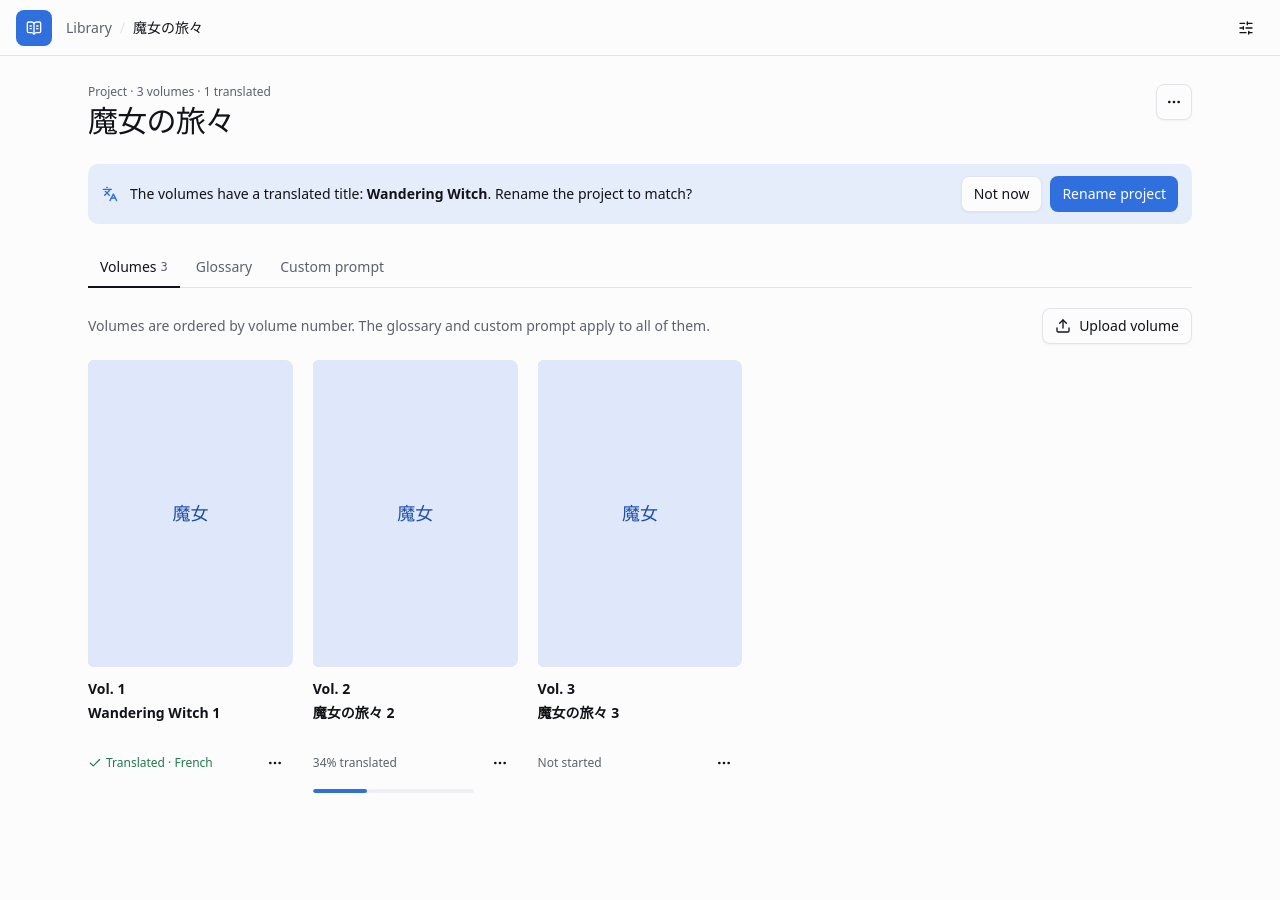
volume list › asks before deleting a volume
Click the button named "Vol. 3 actions" at (724, 763), box [706,745,742,781]
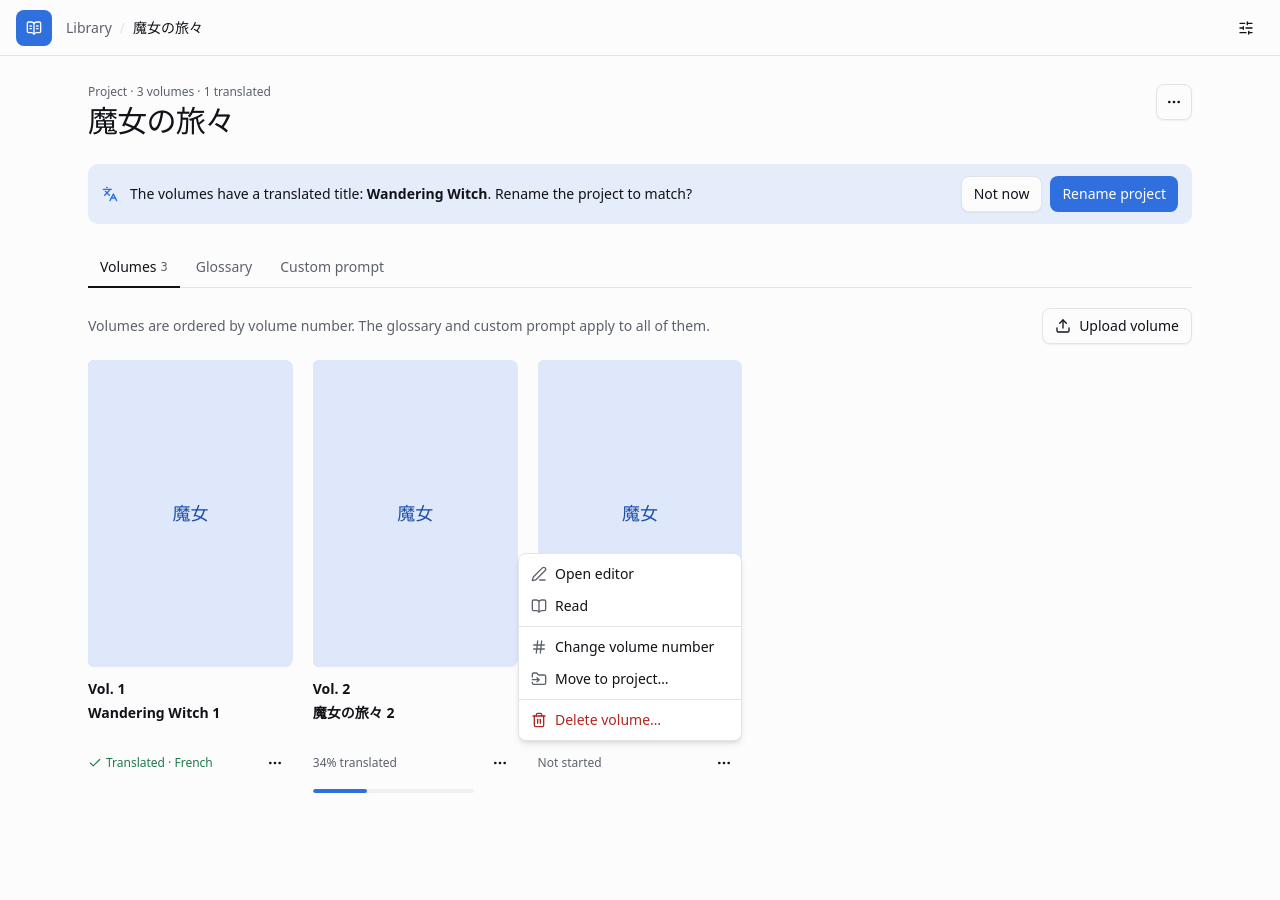
Click the menu item "Delete volume…" at (596, 720), box [531,710,661,729]
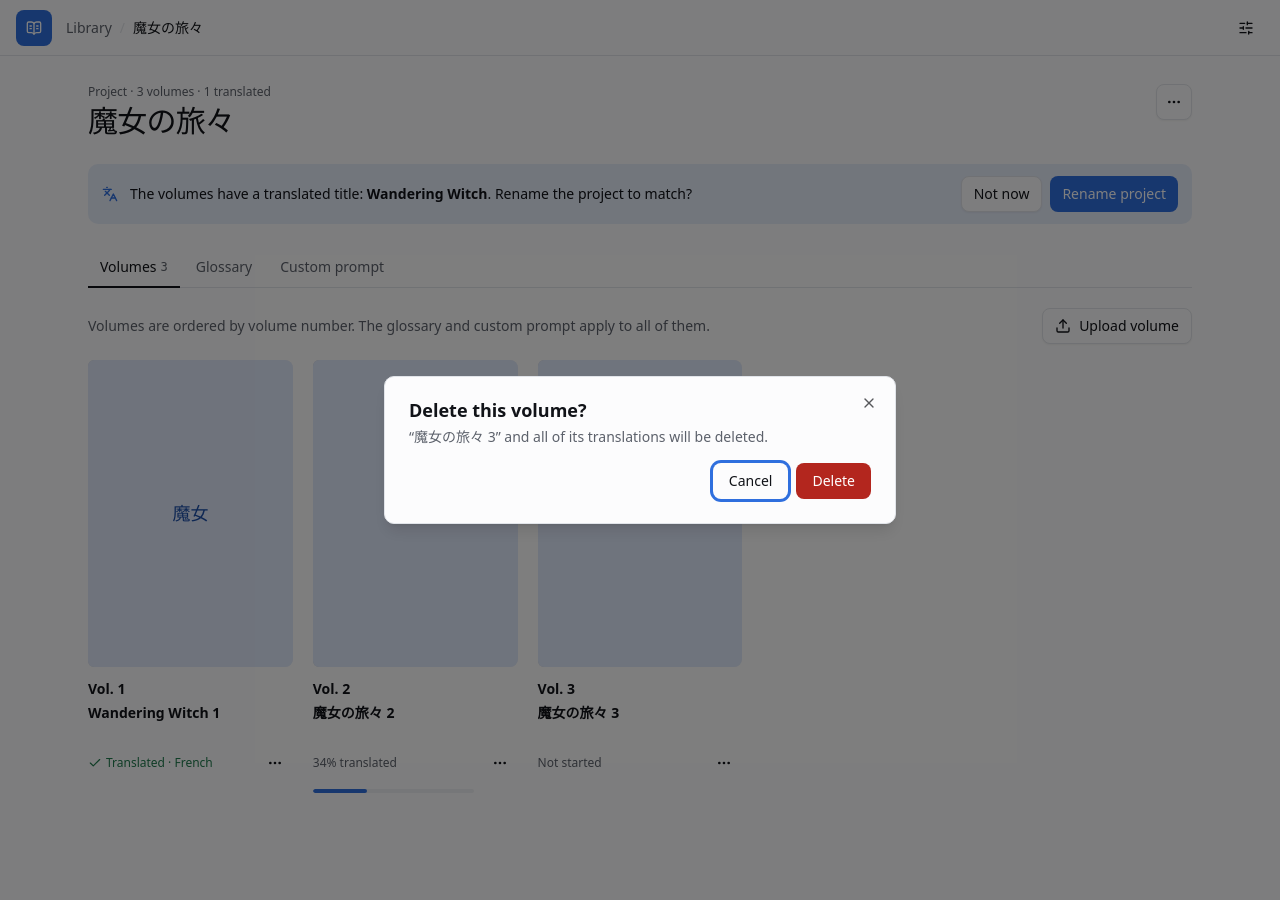
Click the button "Delete" at (834, 481), box [796,463,871,499]
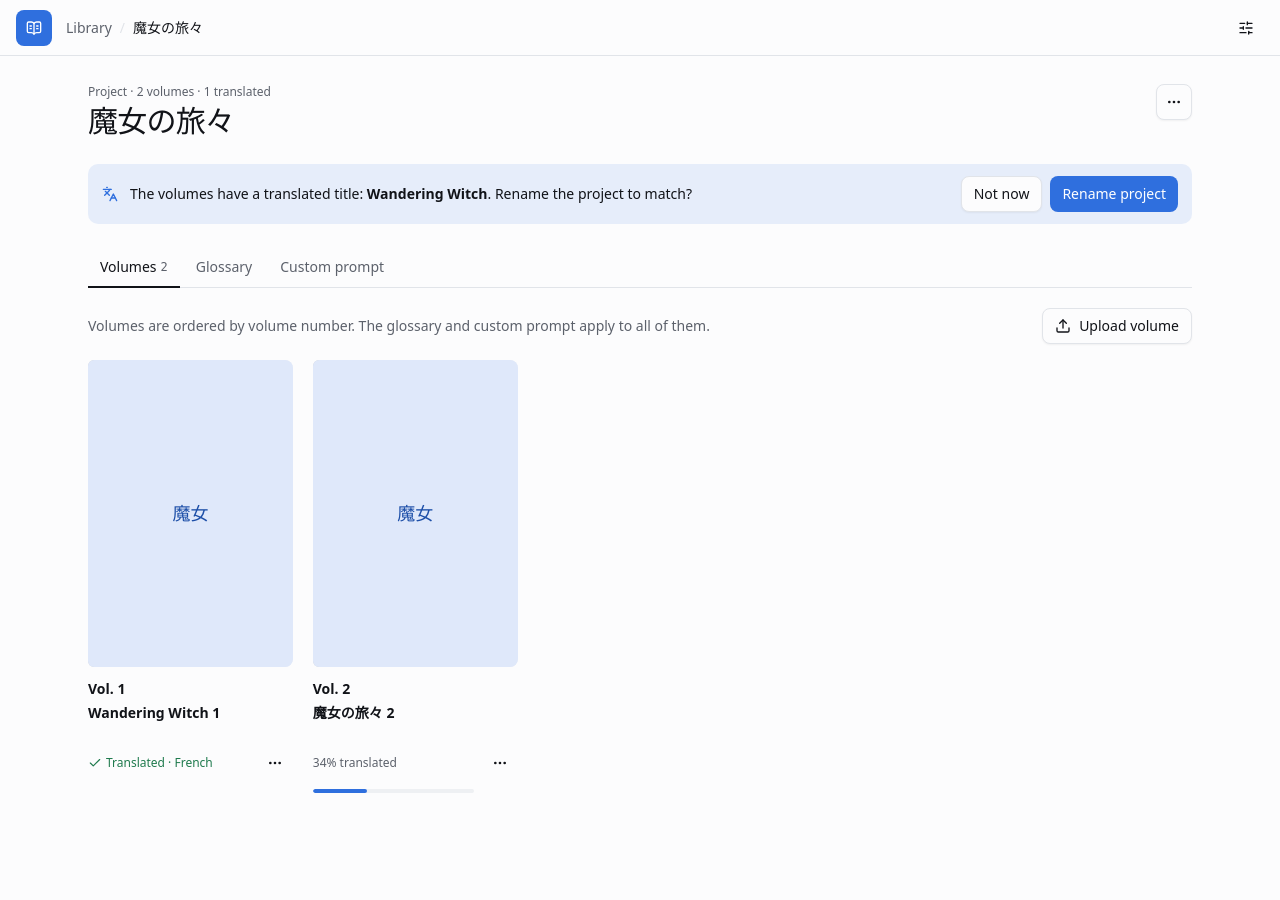
Expected: the text "Vol. 3" is gone
